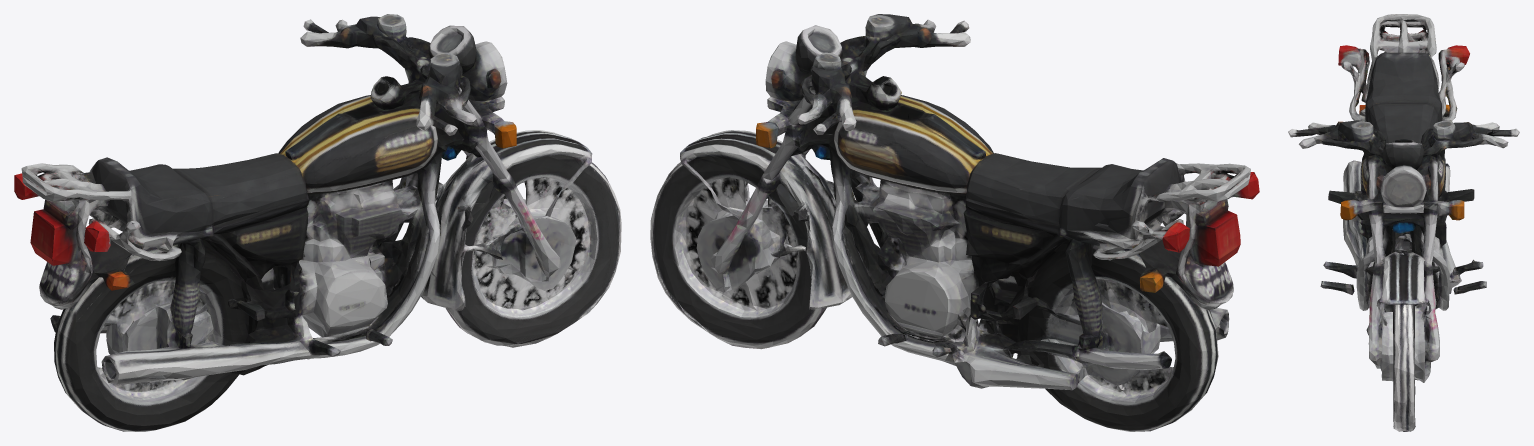
Rendered from CDI 200.glb.
3 renders of one model, left to right at view 1: azimuth 30°, elevation 25°; view 2: azimuth 150°, elevation 25°; view 3: azimuth 270°, elevation 25°, orthographic. The views are drawn at different scales.
Visible parts, largest first — view 1: world; view 2: world; view 3: world.
Boxes of the visible parts, x1,y1,x2,y2 form: world: (14,14,621,431); world: (650,14,1259,431); world: (1288,14,1519,431).
Size of the model in its own units: 0.9998 by 0.5473 by 0.4409.
Materials: 1 (1 with a texture image).
